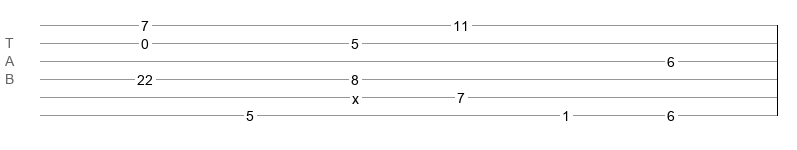0: (141, 36, 149, 46)
1: (562, 108, 570, 118)
11: (453, 18, 469, 28)
22: (137, 72, 153, 82)
5: (246, 108, 254, 118), (351, 36, 359, 46)
6: (667, 108, 675, 118), (667, 54, 675, 64)
7: (141, 18, 149, 28), (457, 90, 465, 100)
8: (351, 72, 359, 82)
x: (352, 91, 359, 99)
